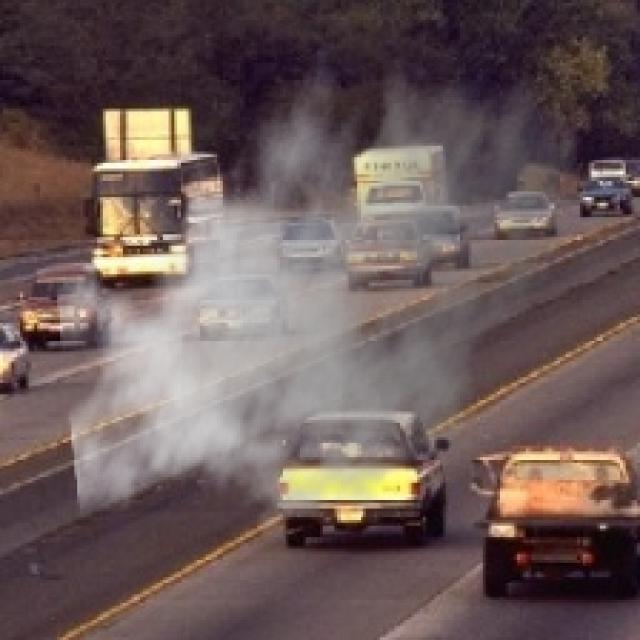Smoke: (54, 14, 586, 549)
